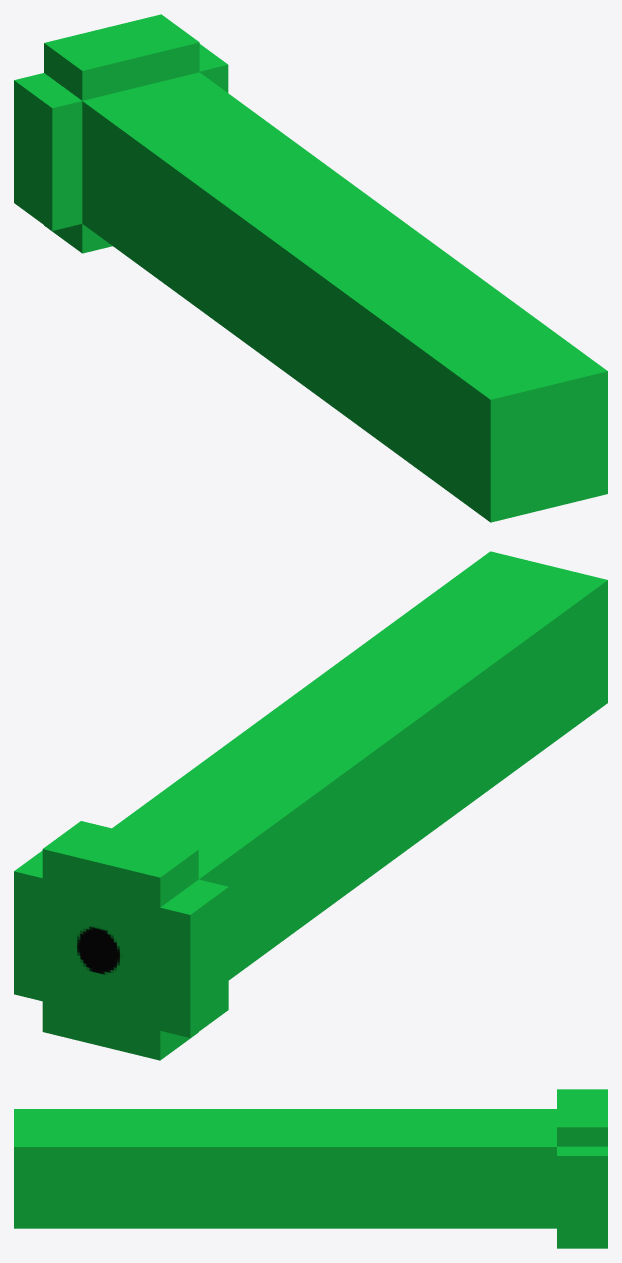
Rendered from dylo.glb.
3 renders of one model, top to bottom at view 1: azimuth 30°, elevation 25°; view 2: azimuth 150°, elevation 25°; view 3: azimuth 270°, elevation 25°, orthographic. The views are drawn at different scales.
Parts seen in each view (by area): view 1: mesh_id27, mesh_id40, mesh_id29, mesh_id42, mesh_id41; view 2: mesh_id27, mesh_id40, mesh_id29, mesh_id42, mesh_id41; view 3: mesh_id27, mesh_id41, mesh_id29, mesh_id42.
Part boxes in pixels (x1,y1,x2,y2): mesh_id27: (44,72,607,522); mesh_id40: (14,73,82,230); mesh_id29: (44,14,199,100); mesh_id42: (44,224,112,253); mesh_id41: (198,44,228,92); mesh_id27: (44,551,607,1028); mesh_id40: (160,879,228,1037); mesh_id29: (42,821,198,908); mesh_id42: (42,1000,198,1060); mesh_id41: (14,850,43,1001); mesh_id27: (14,1109,556,1228); mesh_id41: (557,1146,607,1237); mesh_id29: (557,1089,607,1146); mesh_id42: (557,1237,607,1248).
Bounding box in the file's own units: 0.0298 × 0.0295 × 0.131.
2 materials, 2 textured.
